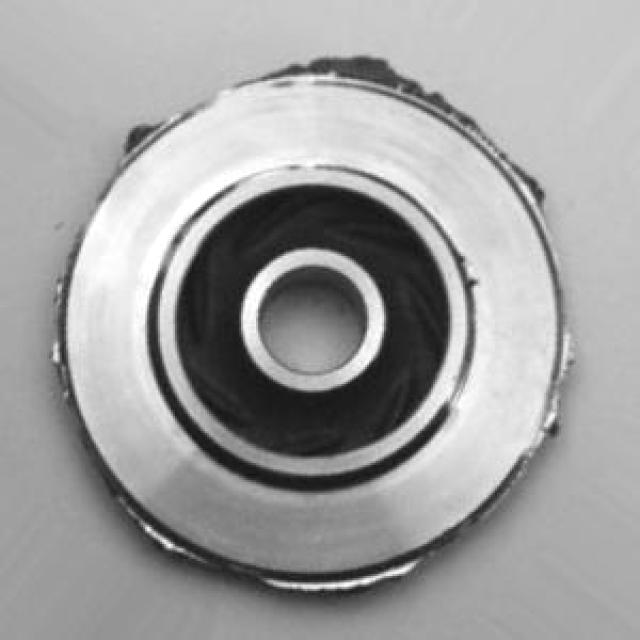Defect: (294, 55, 436, 91)
